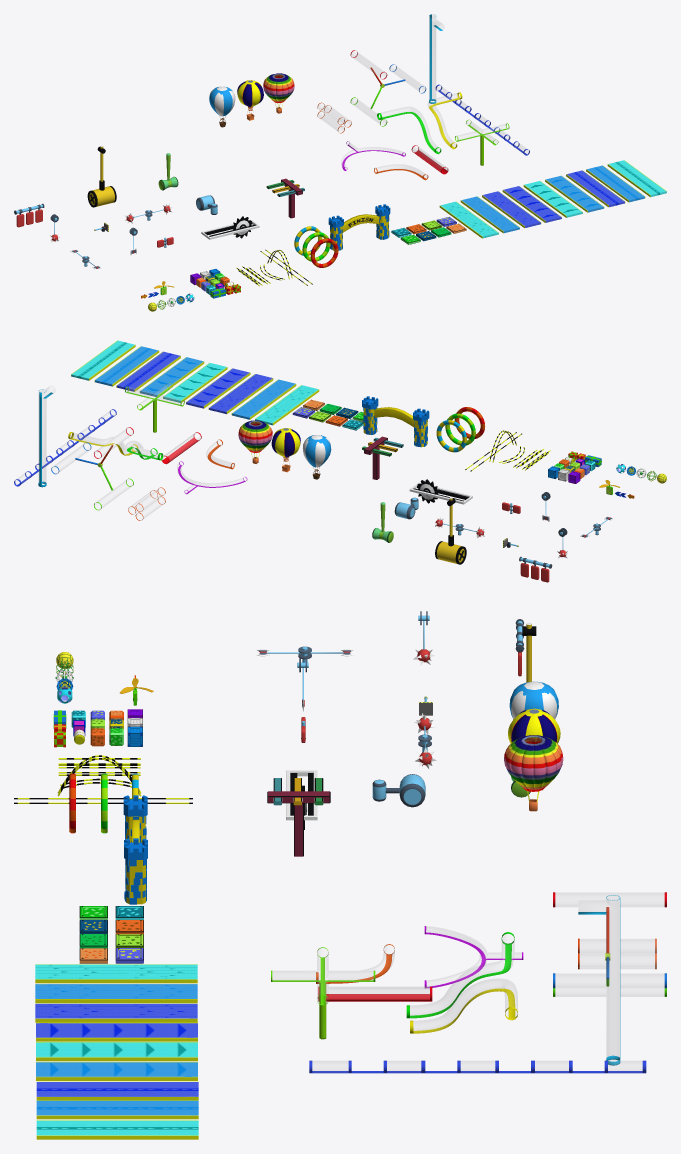
Rendered from game_assets.glb.
The picture shows the model from 3 angles, top to bottom: view 1: azimuth 30°, elevation 25°; view 2: azimuth 150°, elevation 25°; view 3: azimuth 270°, elevation 25°; orthographic projection. The views are drawn at different scales.
Parts seen in each view (by area): view 1: Cube.046_127, Cube.039_122, Cube.041_124, Cube.044_125, Cube.045_126, Cube.042_128, Cube.021_121, Cube.043_129, Cube.040_123, Object_81, Cube.002_Finish Banner Yellow_0.003_56, Cylinder.010_58 (+5 smaller); view 2: Cube.040_123, Cube.041_124, Cube.045_126, Cube.039_122, Cube.044_125, Cube.046_127, Cube.042_128, Cube.021_121, Cube.043_129, Object_81, Cube.002_Finish Banner Yellow_0.003_56, Cube.002_Finish Banner Yellow_0.002_57 (+10 smaller); view 3: Cube.021_121, Cube.040_123, Cube.046_127, Cube.045_126, Cube.044_125, Cube.041_124, Cube.042_128, Cube.039_122, Cube.043_129, Object_81, Cylinder.050_108, Cylinder.035_86 (+18 smaller).
Part boxes in pixels (left/top/right/bottom): Cube.046_127: left=607, top=160, right=666, bottom=197; Cube.039_122: left=460, top=196, right=519, bottom=233; Cube.041_124: left=502, top=186, right=561, bottom=222; Cube.044_125: left=566, top=170, right=625, bottom=207; Cube.045_126: left=586, top=165, right=645, bottom=202; Cube.042_128: left=523, top=181, right=582, bottom=217; Cube.021_121: left=439, top=201, right=498, bottom=238; Cube.043_129: left=545, top=175, right=604, bottom=212; Cube.040_123: left=482, top=191, right=541, bottom=228; Object_81: left=263, top=73, right=294, bottom=113; Cube.002_Finish Banner Yellow_0.003_56: left=328, top=204, right=390, bottom=250; Cylinder.010_58: left=87, top=145, right=116, bottom=207; Cube.040_123: left=208, top=374, right=273, bottom=414; Cube.041_124: left=186, top=368, right=250, bottom=408; Cube.045_126: left=94, top=346, right=159, bottom=386; Cube.039_122: left=231, top=379, right=296, bottom=419; Cube.044_125: left=116, top=351, right=180, bottom=391; Cube.046_127: left=71, top=340, right=135, bottom=380; Cube.042_128: left=163, top=362, right=227, bottom=402; Cube.021_121: left=255, top=385, right=319, bottom=425; Cube.043_129: left=139, top=357, right=204, bottom=396; Object_81: left=238, top=420, right=272, bottom=463; Cube.002_Finish Banner Yellow_0.003_56: left=362, top=396, right=429, bottom=446; Cube.002_Finish Banner Yellow_0.002_57: left=363, top=407, right=427, bottom=447; Cube.021_121: left=35, top=964, right=197, bottom=983; Cube.040_123: left=35, top=1003, right=197, bottom=1022; Cube.046_127: left=36, top=1120, right=198, bottom=1139; Cube.045_126: left=36, top=1100, right=198, bottom=1119; Cube.044_125: left=36, top=1081, right=198, bottom=1100; Cube.041_124: left=36, top=1022, right=197, bottom=1041; Cube.042_128: left=36, top=1042, right=197, bottom=1061; Cube.039_122: left=35, top=984, right=197, bottom=1002; Cube.043_129: left=36, top=1062, right=197, bottom=1080; Object_81: left=504, top=735, right=563, bottom=811; Cylinder.050_108: left=578, top=895, right=619, bottom=1057; Cylinder.035_86: left=580, top=939, right=654, bottom=968.
Size of the model in its own units: 118 by 20.52 by 66.58.
Materials: 85 (52 with a texture image).
